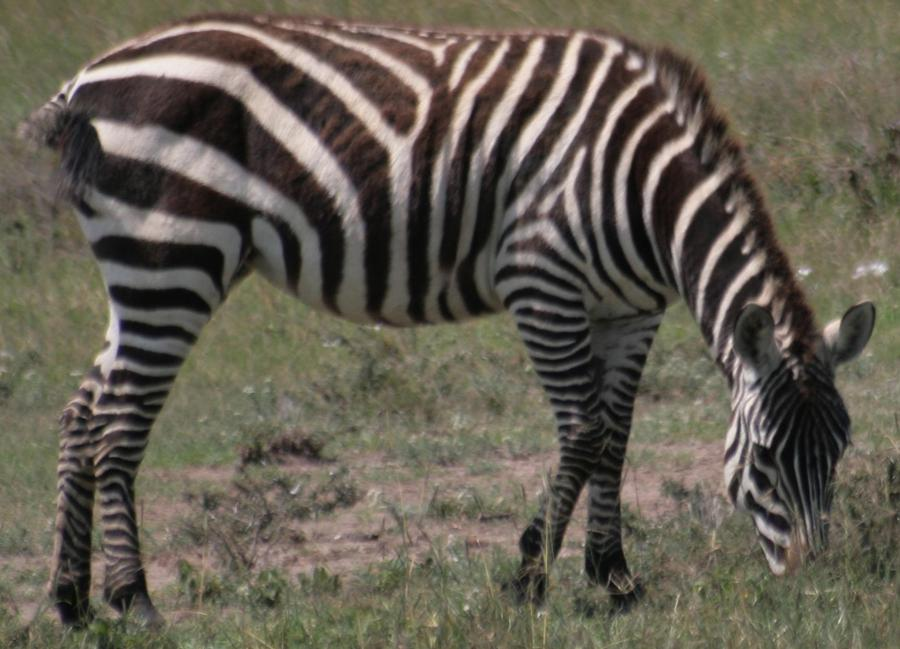zebra_plains: (86, 4, 677, 336)
